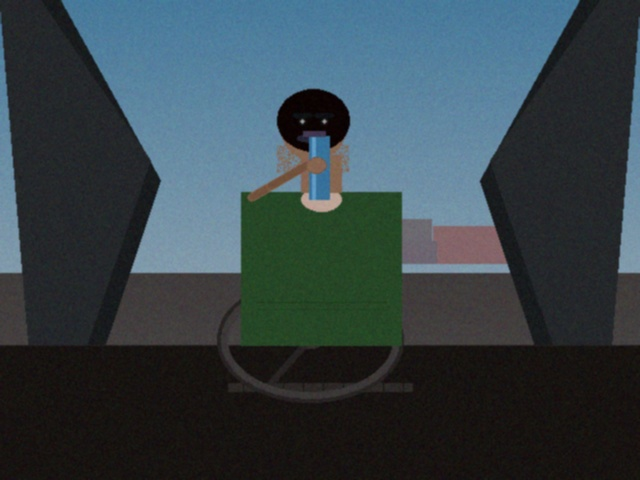drinking: (294, 121, 339, 209)
